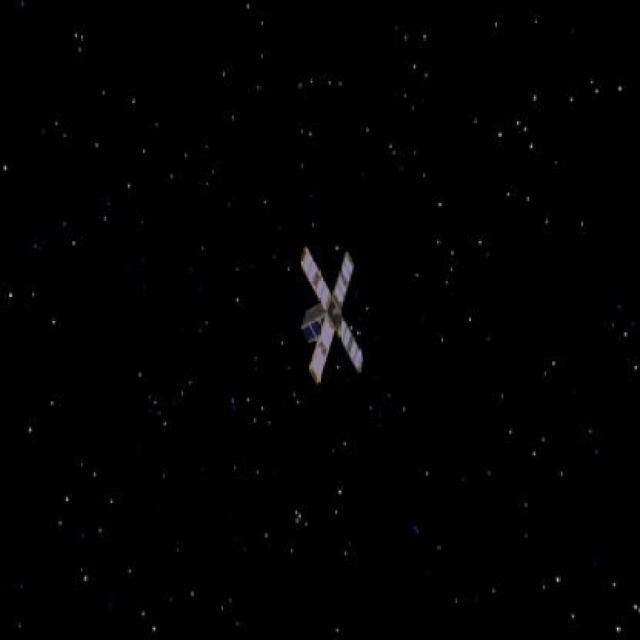medium_debris: (284, 246, 378, 387)
